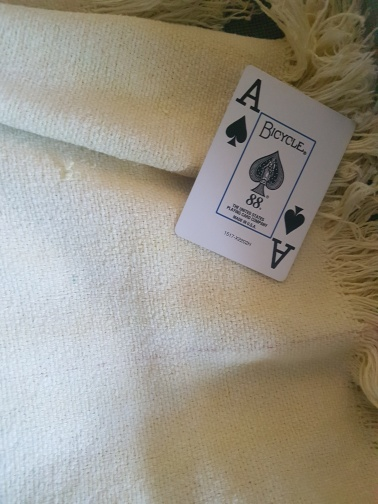ace: (174, 65, 361, 284)
